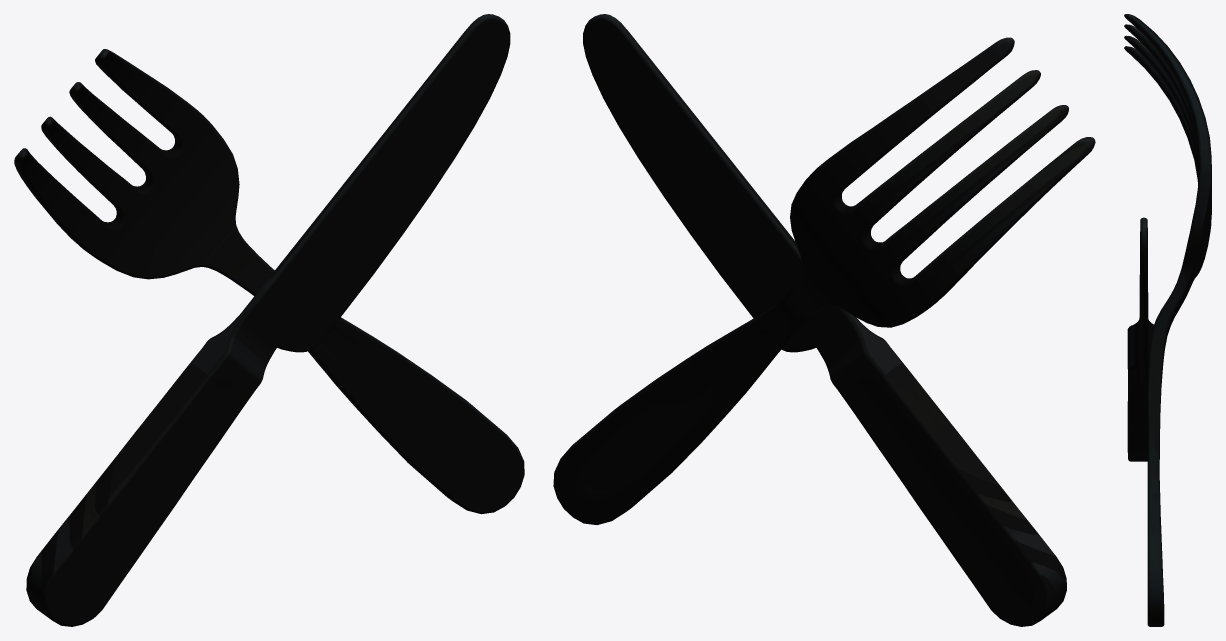
The model's file is sushi-compressed.glb.
3 views of the same model, side by side, from view 1: azimuth 30°, elevation 25°; view 2: azimuth 150°, elevation 25°; view 3: azimuth 270°, elevation 25° (orthographic). The views are drawn at different scales.
Parts seen in each view (by area): view 1: fork_and_knife.1; view 2: fork_and_knife.1; view 3: fork_and_knife.1.
Boxes of the visible parts, x1,y1,x2,y2 form: fork_and_knife.1: [14, 14, 524, 626]; fork_and_knife.1: [553, 14, 1095, 626]; fork_and_knife.1: [1124, 14, 1211, 626].
Bounding box in the file's own units: 0.1567 × 0.1637 × 0.0287.
Materials: 1 (1 with a texture image).
